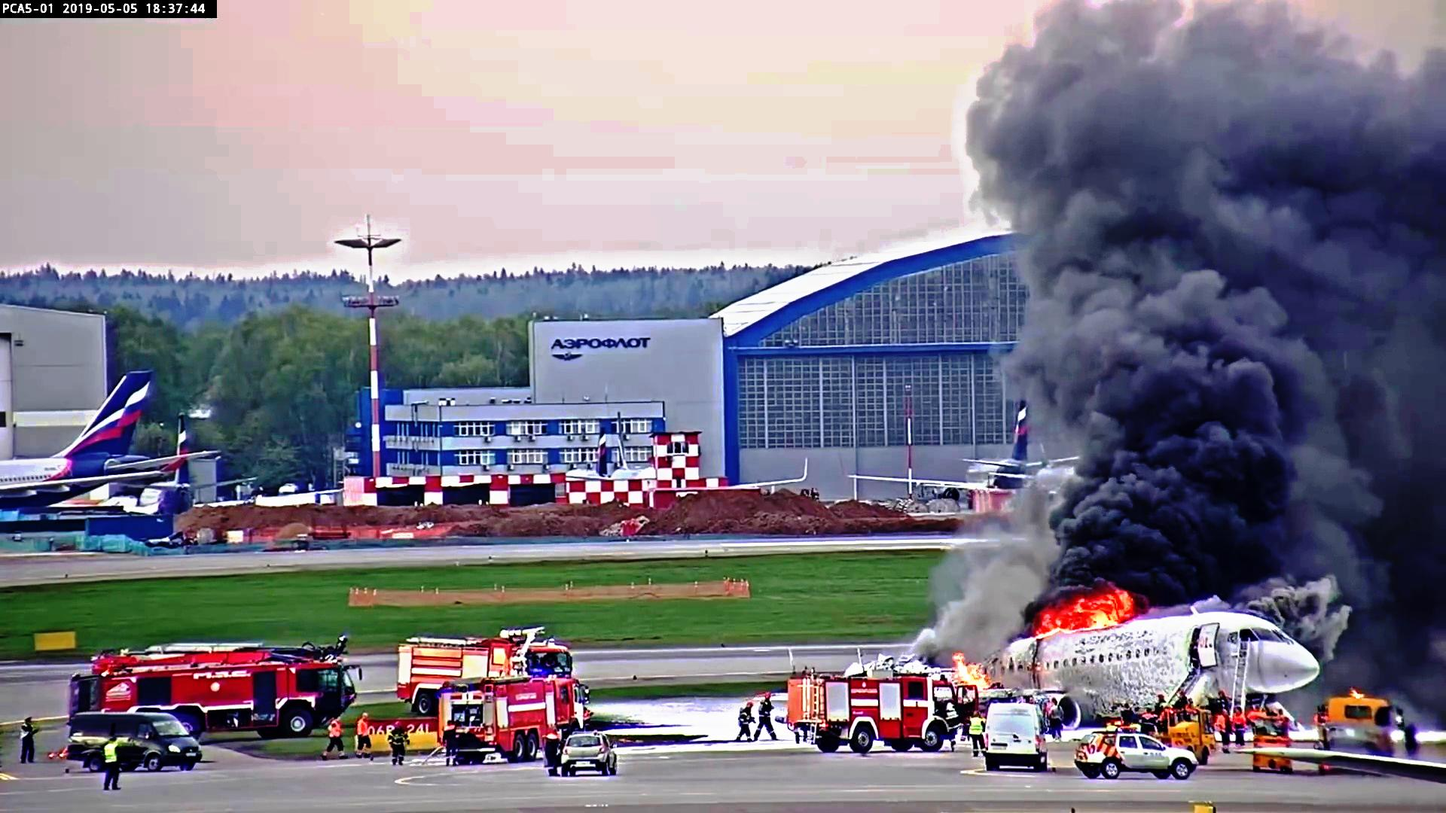fire: (1028, 589, 1160, 645)
smoke: (983, 32, 1288, 553), (1241, 31, 1446, 601)
